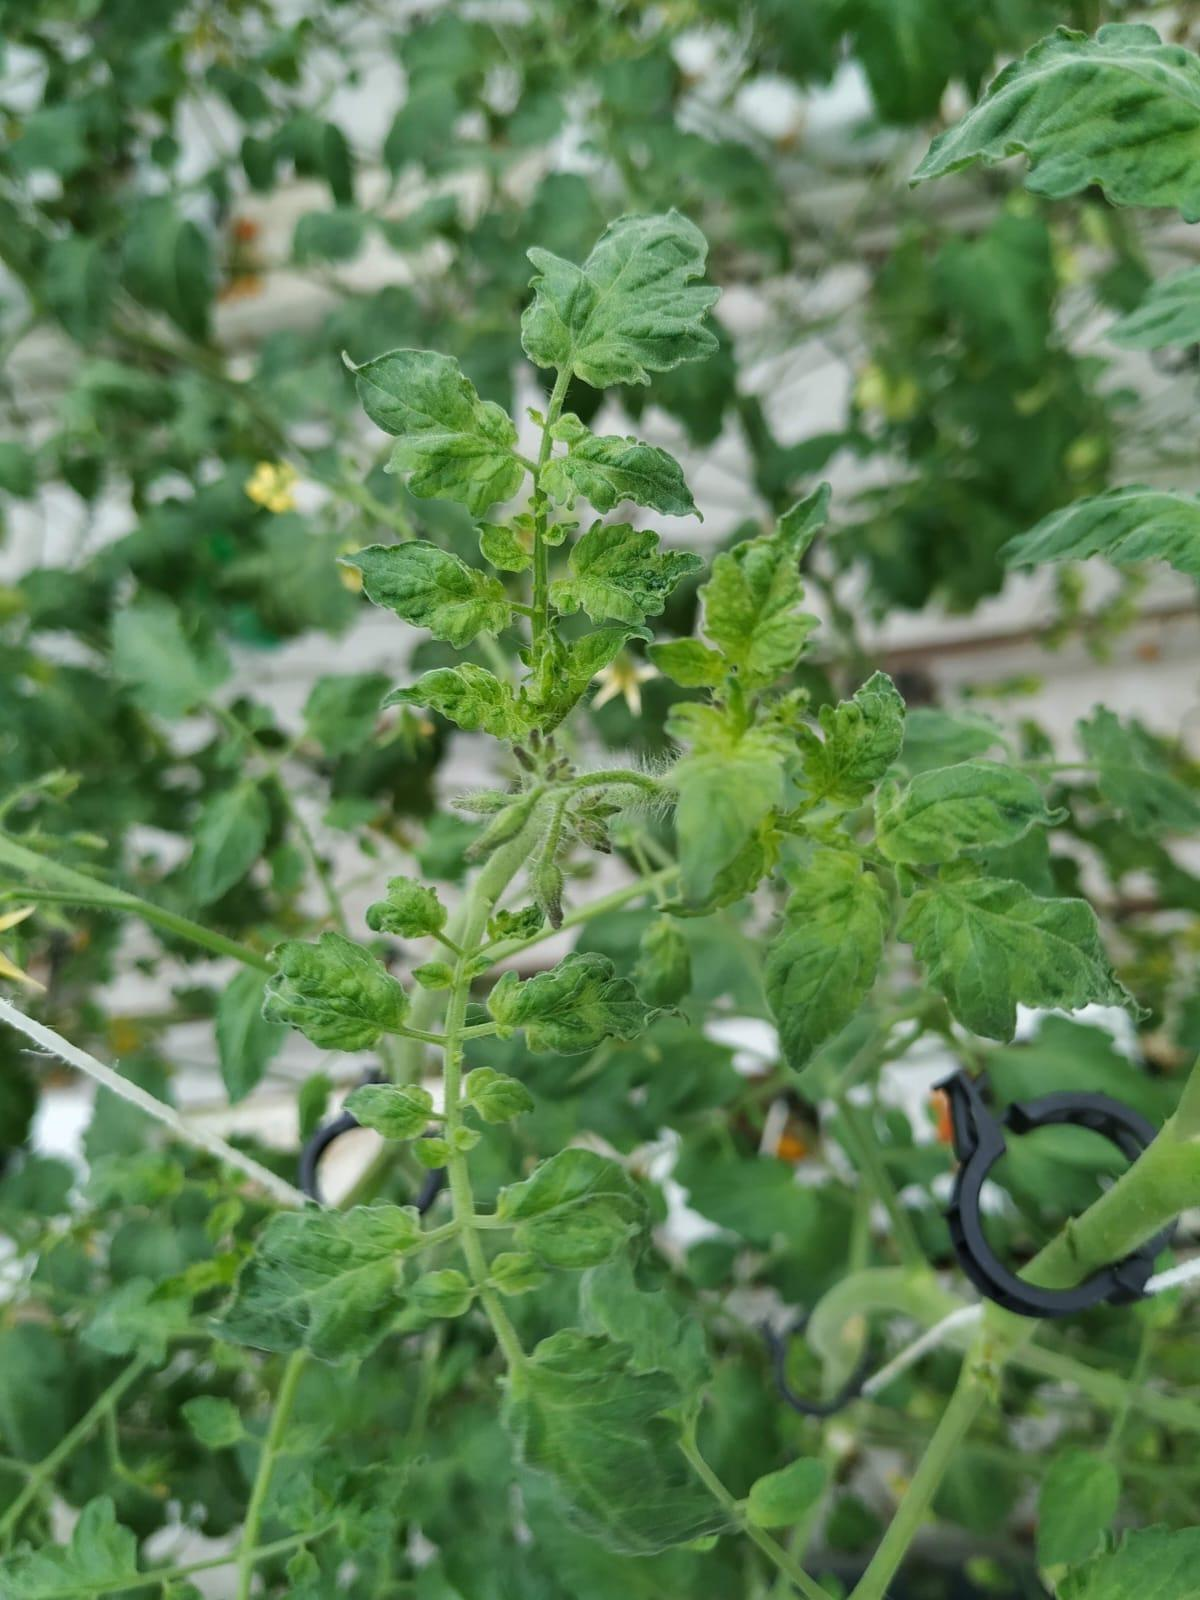Hoja: (521, 207, 718, 386), (212, 1208, 420, 1362), (345, 539, 511, 646)
Hoja rugoso: (897, 878, 1134, 1041), (353, 348, 523, 514), (765, 850, 887, 1072), (700, 483, 827, 688), (875, 762, 1059, 866), (262, 931, 410, 1049), (488, 954, 659, 1053), (550, 522, 700, 625), (803, 671, 906, 806), (541, 435, 697, 515), (391, 663, 531, 741)
